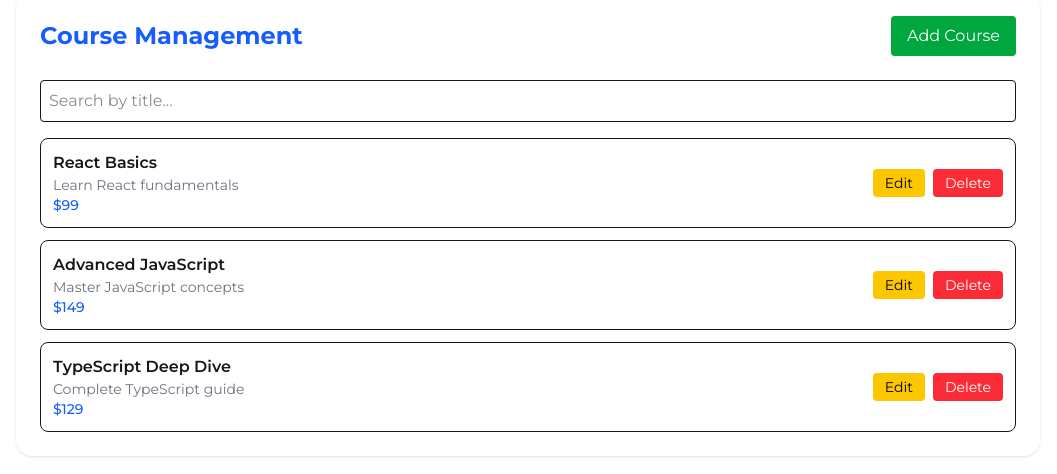
CourseManagement Component › Search Functionality › should filter courses based on search input
Expected: the text "React Basics" is shown, top-left (53, 153), bottom-right (157, 172)
In the field with placeholder "Search by title...": (528, 101) top-left (40, 80), bottom-right (1016, 122), type "React"
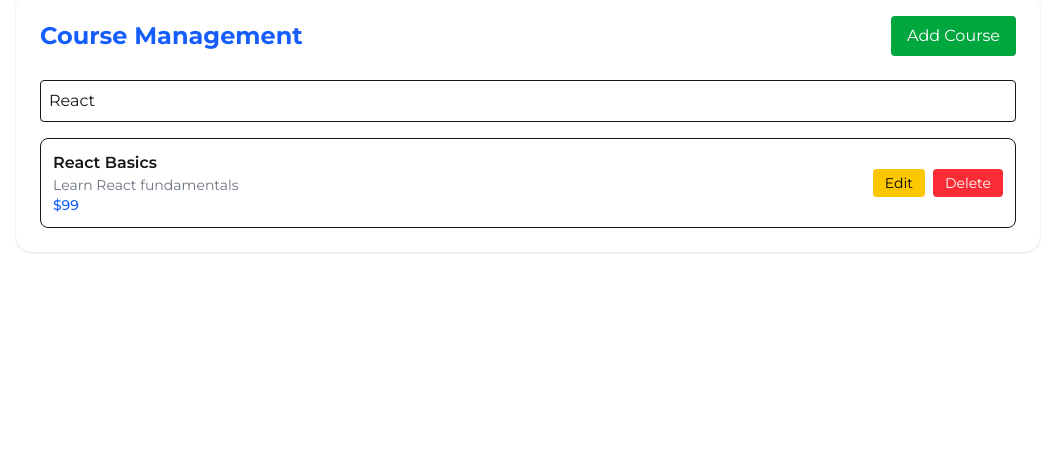
Expected: the text "React Basics" is shown, top-left (53, 153), bottom-right (157, 172)
Expected: the text "Advanced JavaScript" is gone
